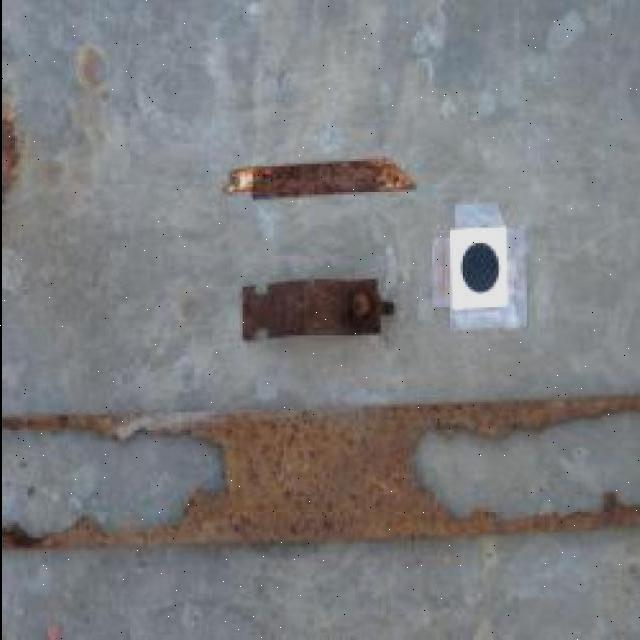corrosion: (239, 276, 393, 340)
crack: (2, 392, 638, 549), (10, 376, 637, 433)
dampens: (3, 521, 51, 548)
dampness: (0, 508, 231, 551), (1, 408, 202, 436), (226, 183, 411, 200), (74, 42, 110, 89)
